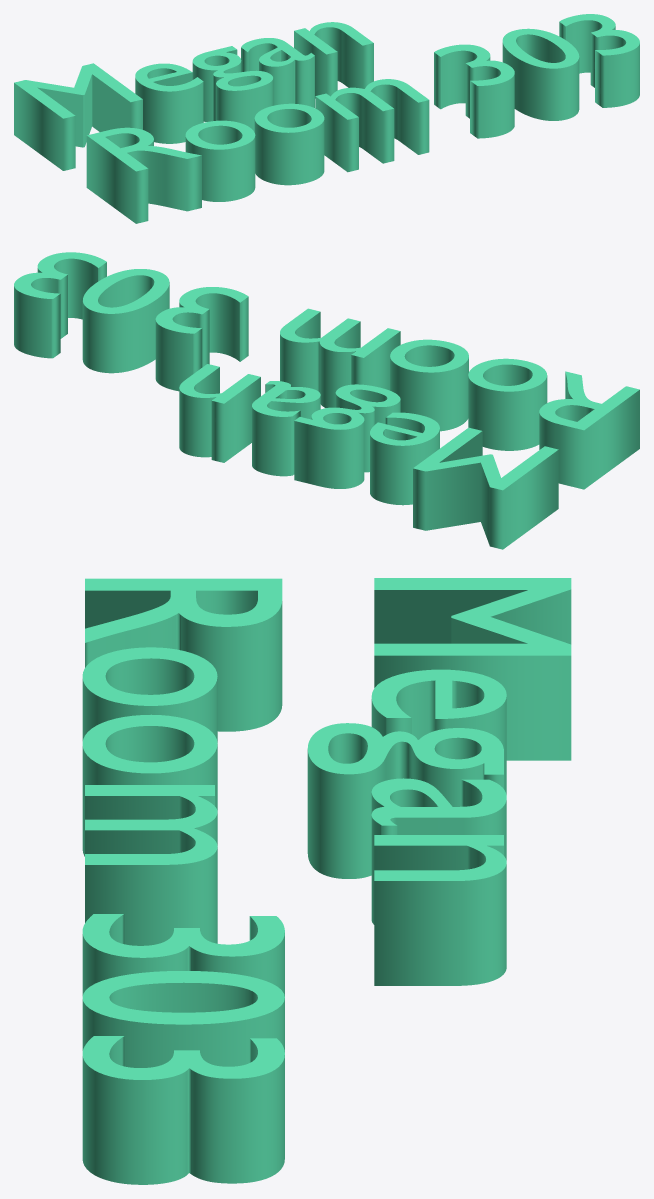
File: megan-303.gltf
3 views of the same model, one above another, from view 1: azimuth 30°, elevation 25°; view 2: azimuth 150°, elevation 25°; view 3: azimuth 270°, elevation 25° (orthographic). The views are drawn at different scales.
Visible parts, largest first — view 1: Text; view 2: Text; view 3: Text.
Part boxes in pixels (x1,y1,x2,y2): Text: (14, 14, 639, 223); Text: (14, 252, 639, 549); Text: (82, 578, 571, 1184).
Bounding box in the file's own units: 4.11 × 0.4 × 1.69.
